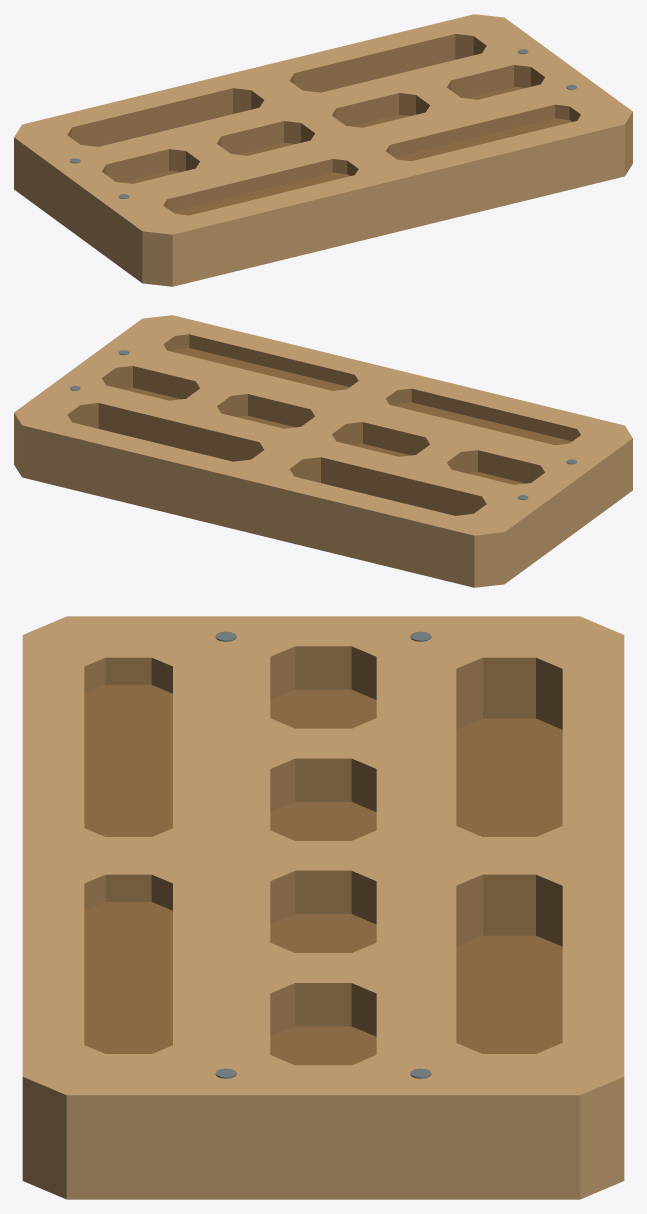
3 views of the same model, one above another, from view 1: azimuth 30°, elevation 25°; view 2: azimuth 150°, elevation 25°; view 3: azimuth 270°, elevation 25° (orthographic). The views are drawn at different scales.
Parts seen in each view (by area): view 1: WholeThreeRowBlindPocketTimberBody; view 2: WholeThreeRowBlindPocketTimberBody; view 3: WholeThreeRowBlindPocketTimberBody.
Part boxes in pixels (box(x1,y1,x2,y2)): WholeThreeRowBlindPocketTimberBody: box(14, 14, 632, 286); WholeThreeRowBlindPocketTimberBody: box(14, 315, 632, 587); WholeThreeRowBlindPocketTimberBody: box(22, 616, 624, 1199).
Size of the model in its own units: 0.64 by 0.0658 by 0.34.
